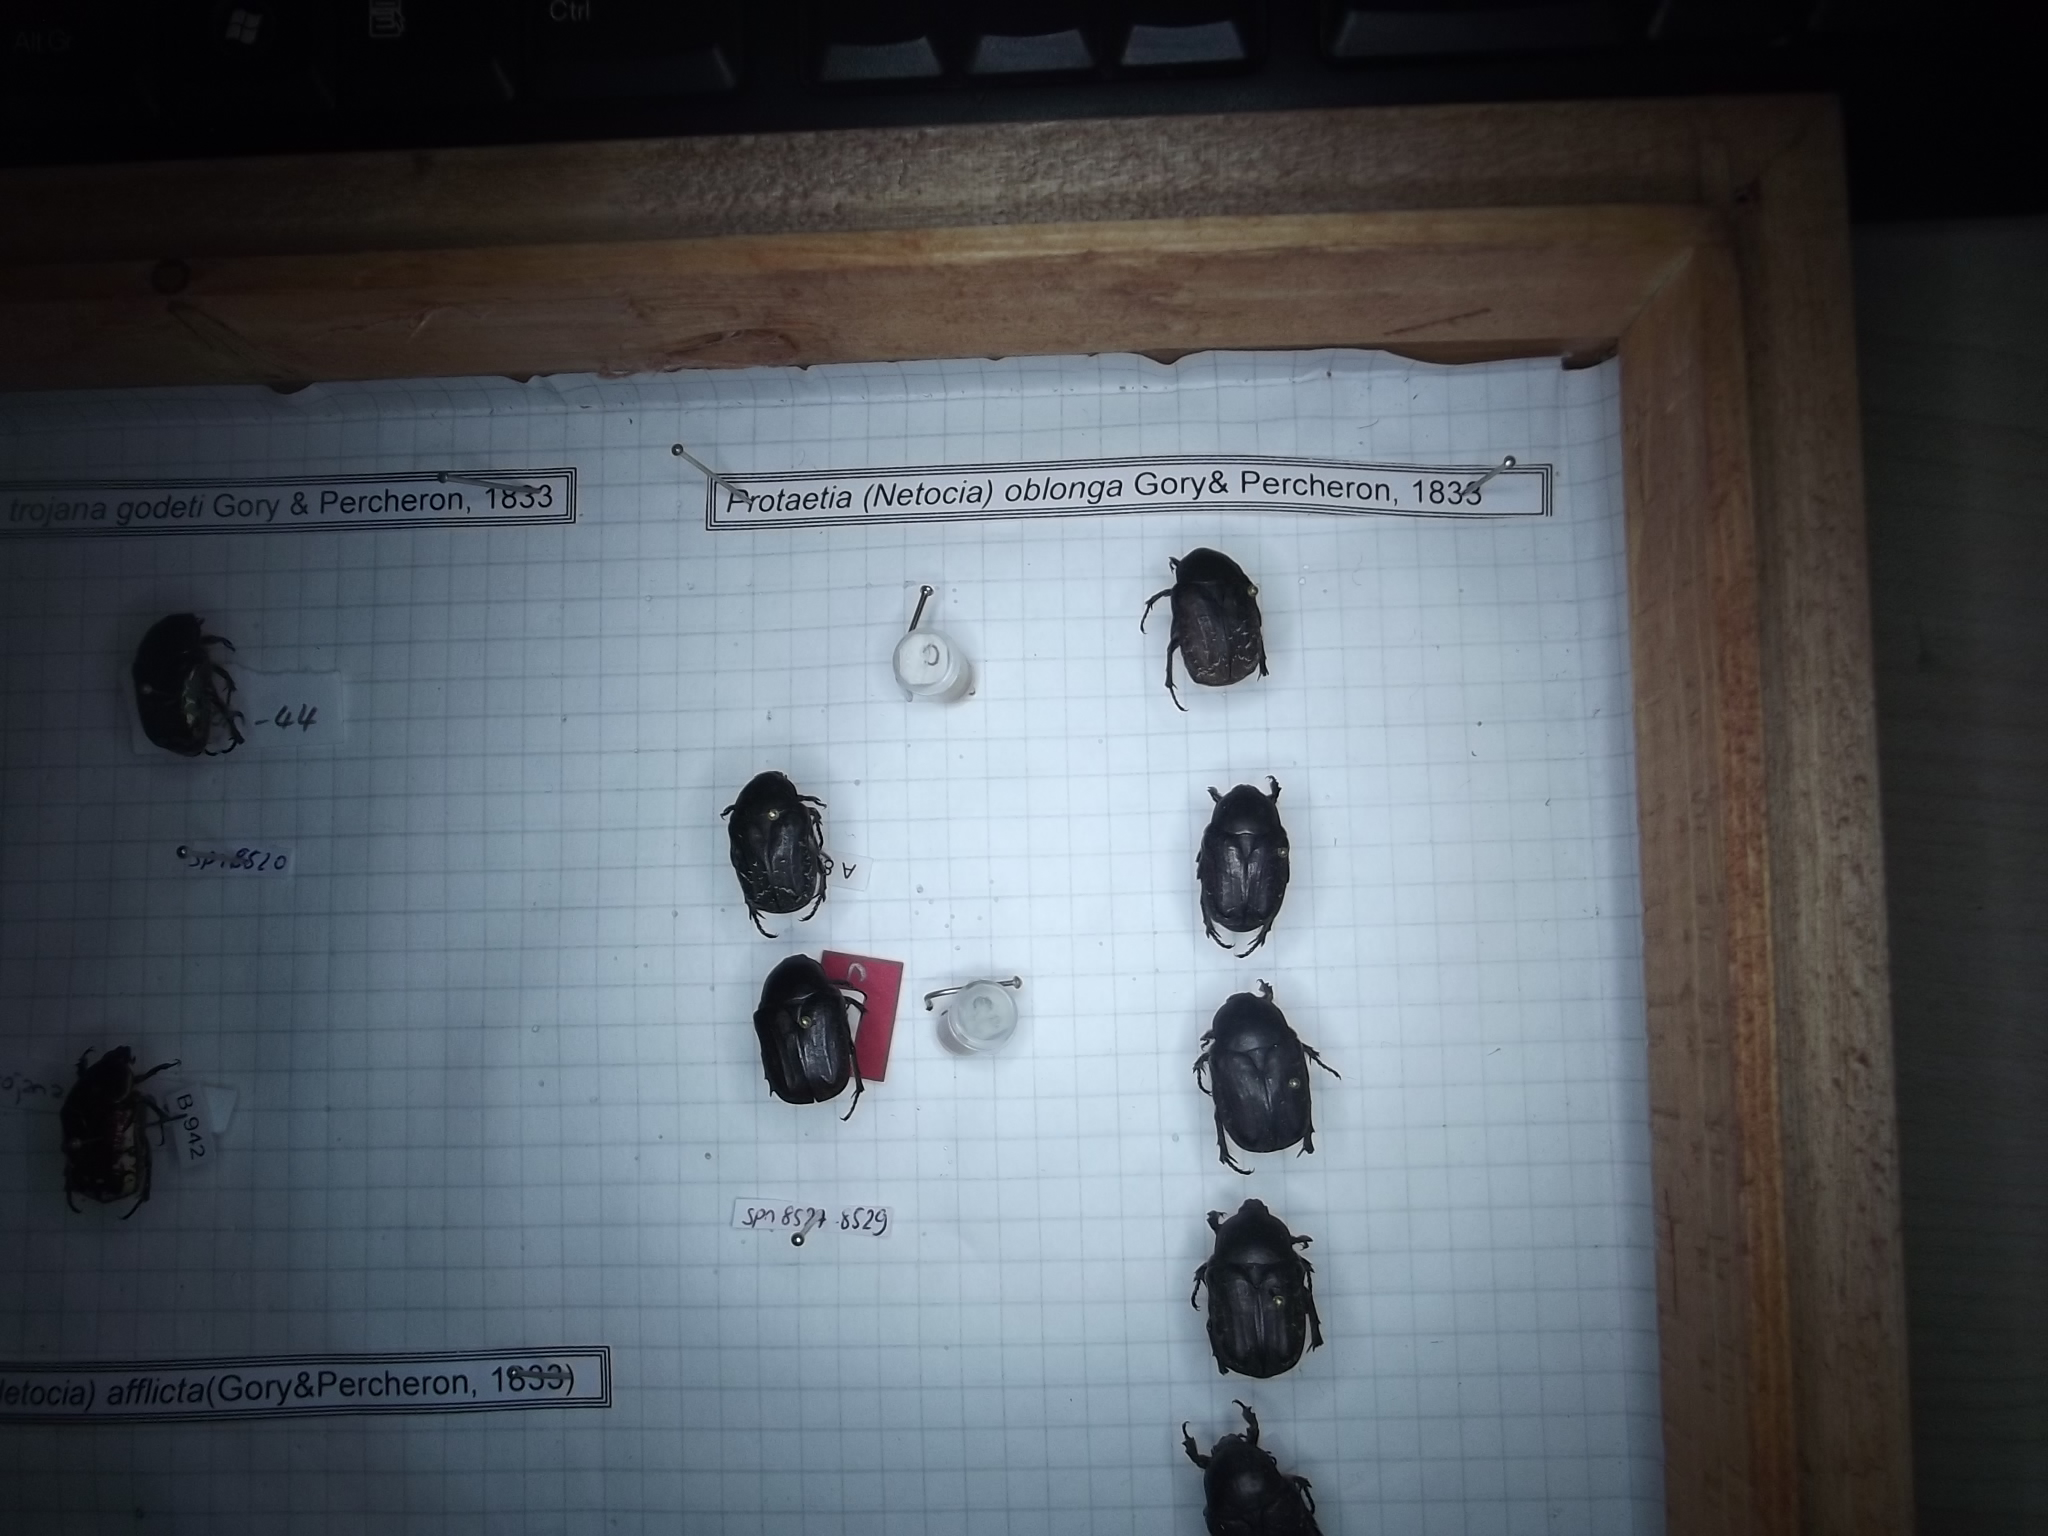Protaetia_oblonga: (1179, 978, 1337, 1183), (1180, 1189, 1335, 1392), (1129, 524, 1277, 731), (1184, 770, 1309, 962), (718, 762, 839, 950), (739, 949, 860, 1110)
